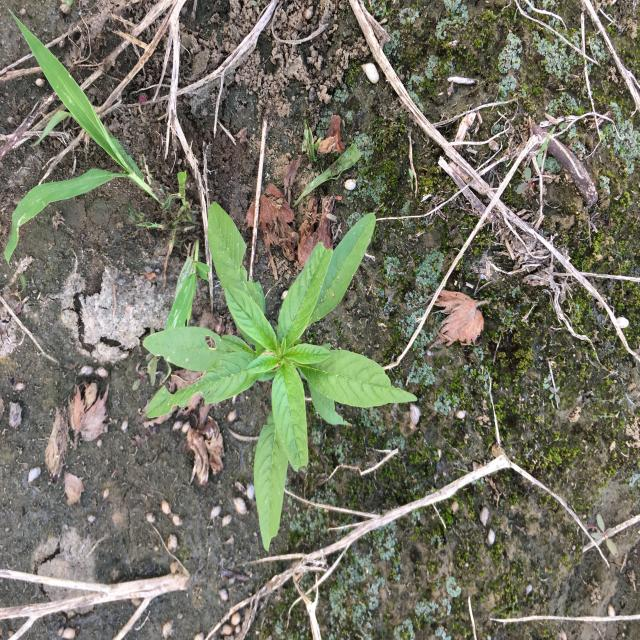Waterhemp: (140, 198, 420, 554)
